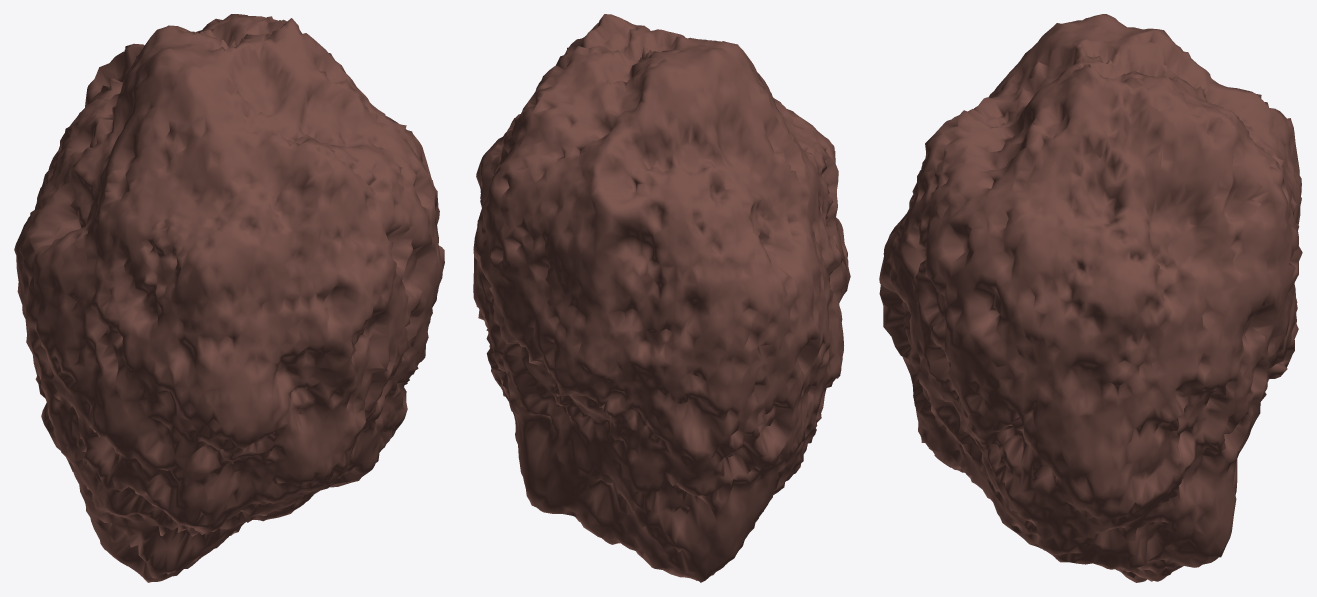
File: IncomingAsteroid.fbx
The picture shows the model from 3 angles, left to right: view 1: azimuth 30°, elevation 25°; view 2: azimuth 150°, elevation 25°; view 3: azimuth 270°, elevation 25°; orthographic projection. The views are drawn at different scales.
Parts seen in each view (by area): view 1: Sphere; view 2: Sphere; view 3: Sphere.
Part boxes in pixels (x1,y1,x2,y2): Sphere: (14, 14, 444, 582); Sphere: (473, 14, 850, 582); Sphere: (879, 14, 1302, 582).
Bounding box in the file's own units: 286 × 417 × 286.
